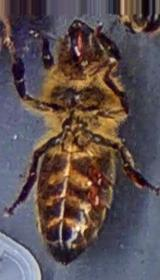varroa_mite: (68, 186, 124, 211), (78, 156, 112, 191)
